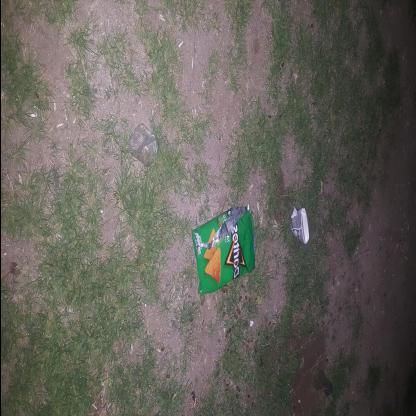karton: (172, 290, 209, 308)
plastik: (121, 191, 214, 255)
